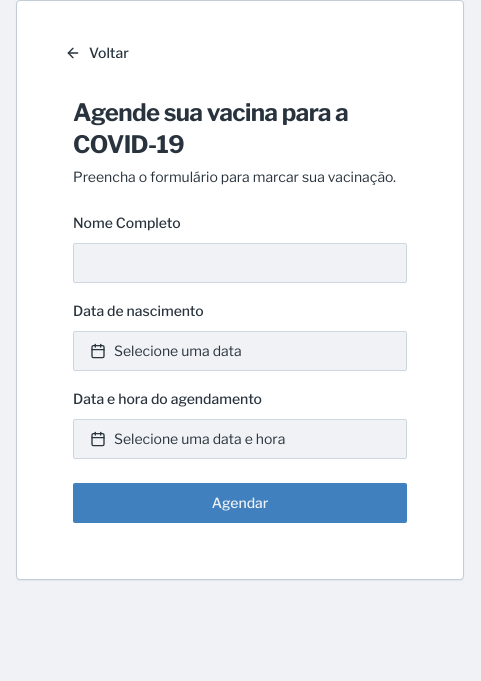
it: <CreateAppointmentForm /> › should display error messages for invalid inputs
Step 1. Click the button "Agendar" → (240, 503), box [73, 483, 407, 523]
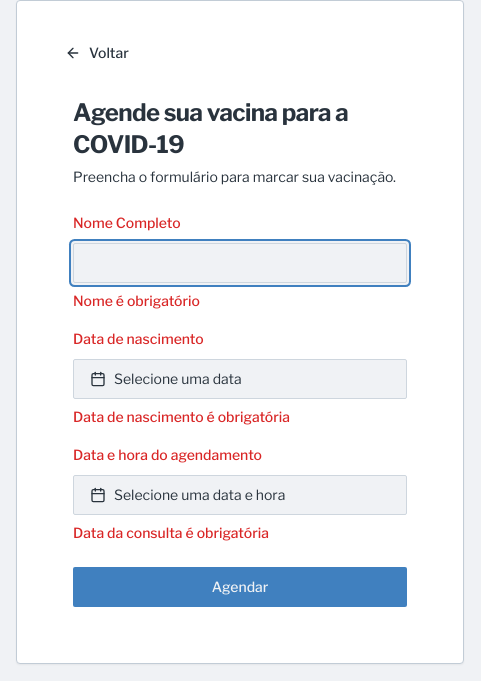
Now the text "Nome é obrigatório" is shown, box [73, 292, 200, 309]
Now the text "Data de nascimento é obrigatória" is shown, box [73, 408, 290, 425]
Now the text "Data da consulta é obrigatória" is shown, box [73, 524, 269, 541]
